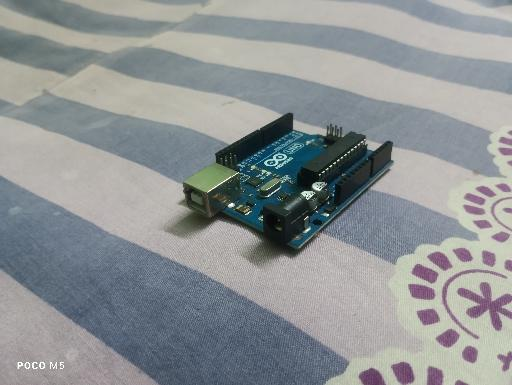Arduino: (182, 113, 395, 252)
